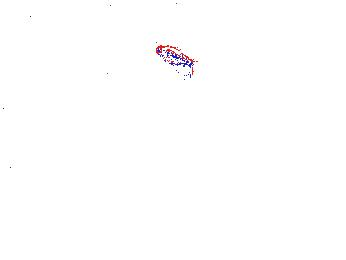red belly glassfish: (154, 44, 197, 75), (16, 8, 60, 24)
